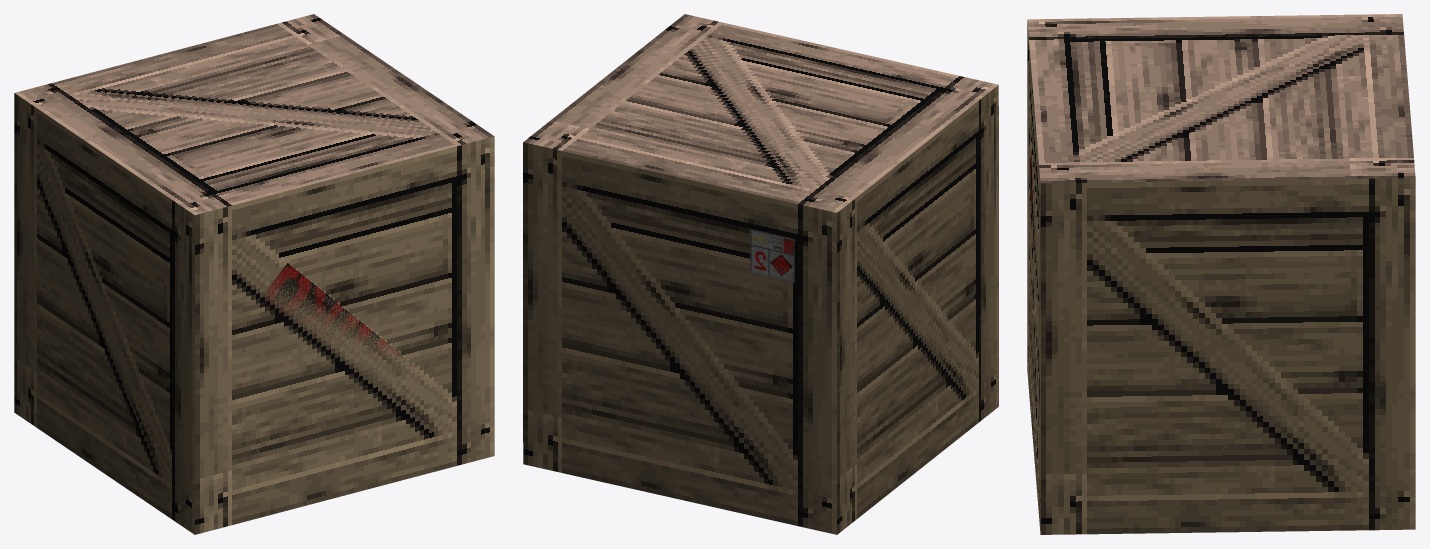
The model's file is primary_066.glb.
3 renders of one model, left to right at view 1: azimuth 30°, elevation 25°; view 2: azimuth 150°, elevation 25°; view 3: azimuth 270°, elevation 25°, orthographic. The views are drawn at different scales.
Parts seen in each view (by area): view 1: Object; view 2: Object; view 3: Object.
Part boxes in pixels (bbox=[...]): Object: bbox=[14, 14, 494, 534]; Object: bbox=[523, 14, 998, 534]; Object: bbox=[1027, 14, 1415, 534].
Size of the model in its own units: 1.4 by 1.36 by 1.36.
7 materials, 7 textured.
